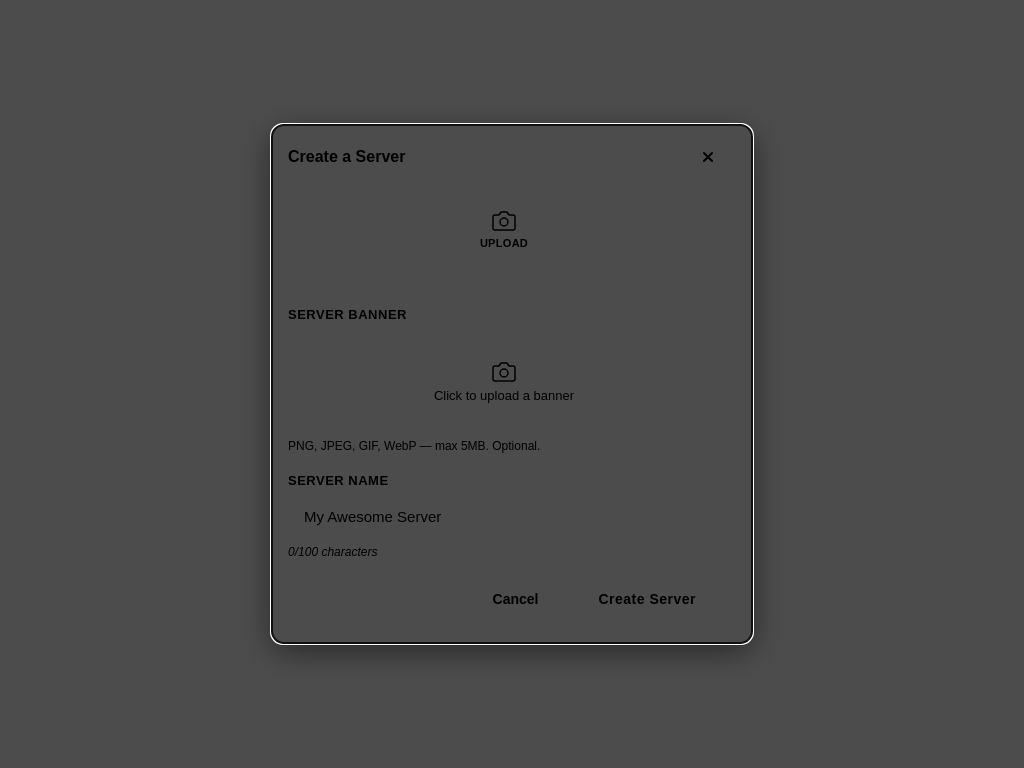
Scenario: CreateServerModal › shows validation error for empty name
The width and height of the screenshot is (1024, 768).
Click the button "Create Server": [647, 599] box [574,579,720,619]
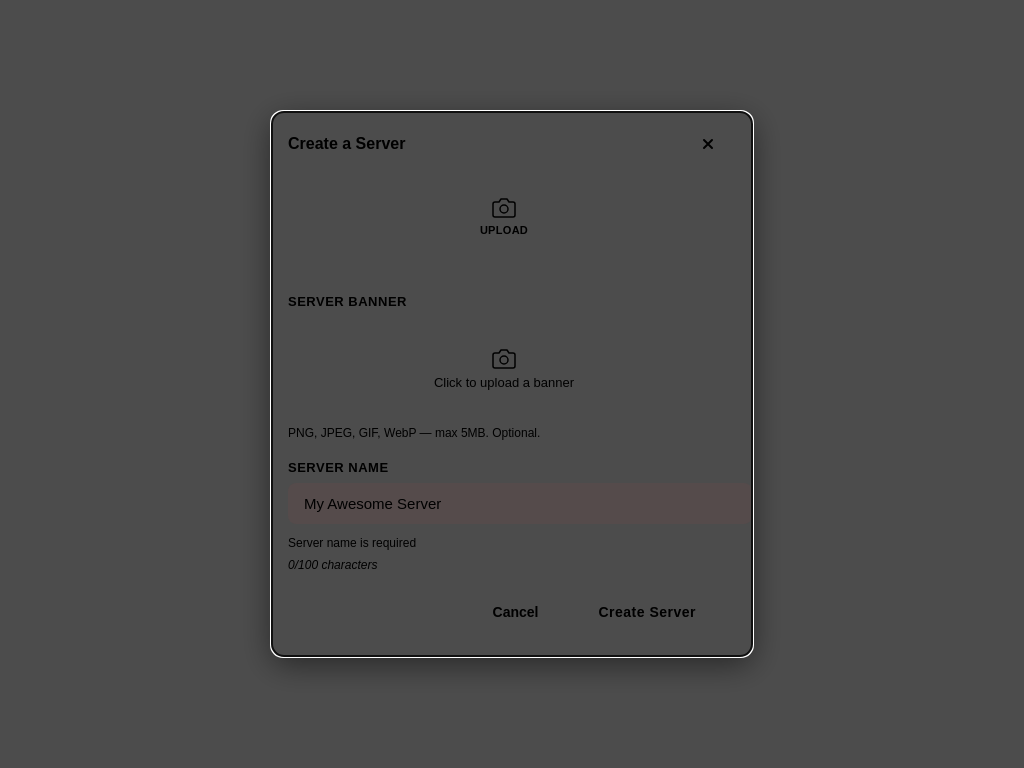
Expected: the text "Server name is required" is shown, [288,536,416,550]
